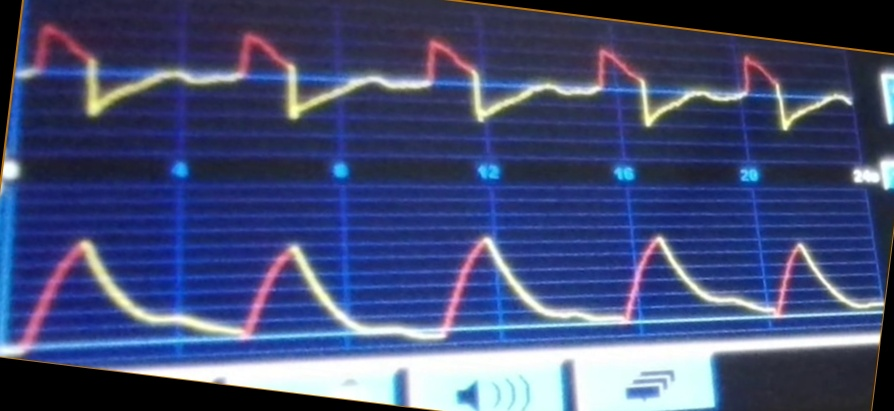Ineffective_effort Flow: (24, 20, 850, 137)
Ineffective_effort Volume: (13, 228, 878, 343)
